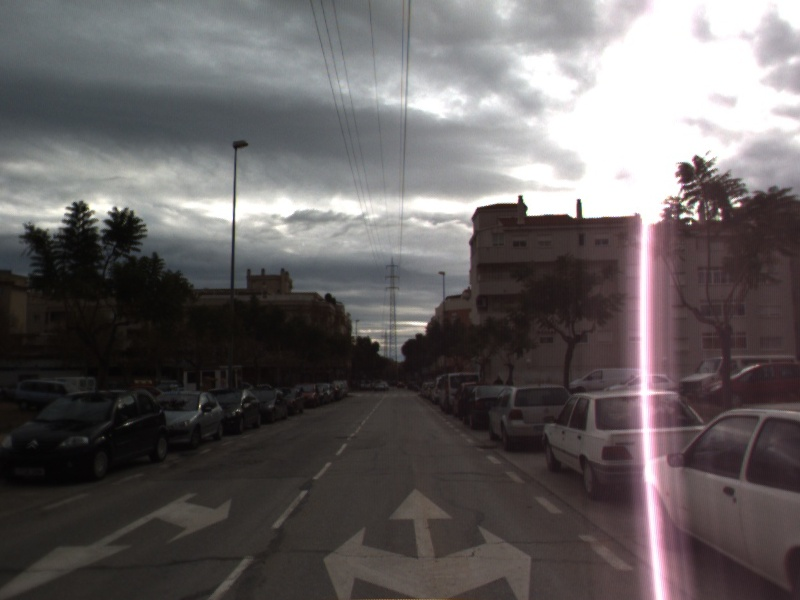STRAIGHT_LEFT_RIGHT: (320, 484, 535, 600)
